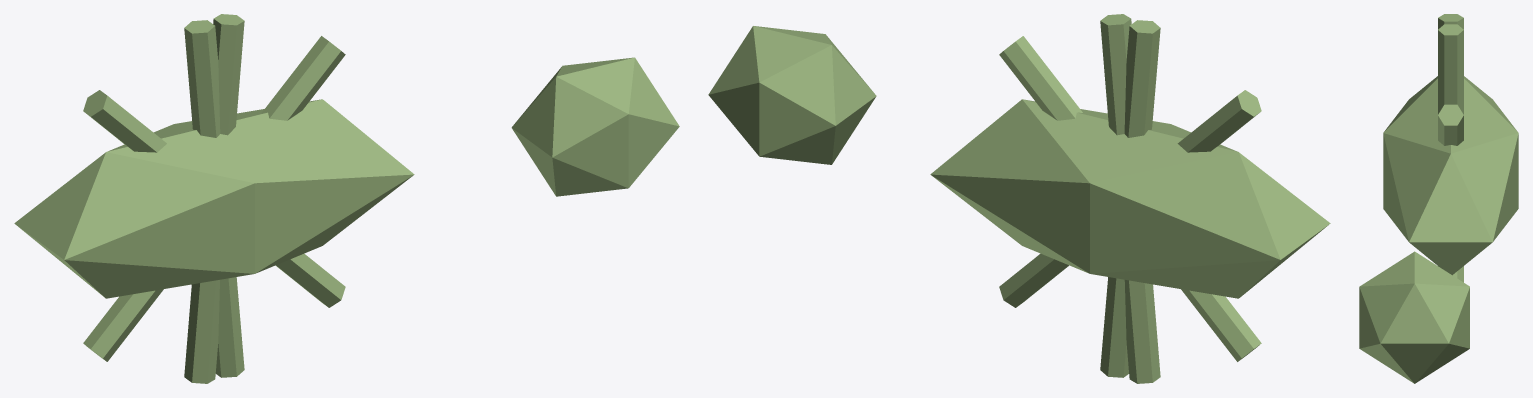
Rendered from grasshopper.glb.
3 views of the same model, side by side, from view 1: azimuth 30°, elevation 25°; view 2: azimuth 150°, elevation 25°; view 3: azimuth 270°, elevation 25° (orthographic). The views are drawn at different scales.
Visible parts, largest first — view 1: world; view 2: world; view 3: world.
Part boxes in pixels (x1=…): world: x1=14, y1=14, x2=679, y2=383; world: x1=708, y1=14, x2=1330, y2=383; world: x1=1359, y1=14, x2=1518, y2=383.
Size of the model in its own units: 0.799 by 0.451 by 0.2201.
